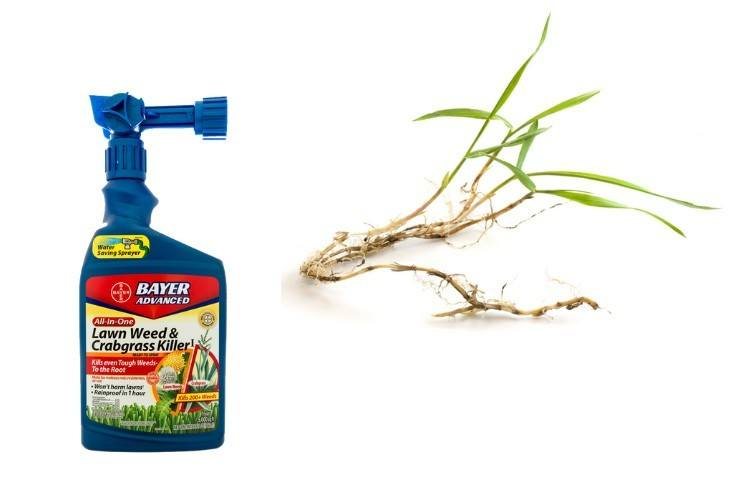crabgrass: (438, 76, 681, 237)
